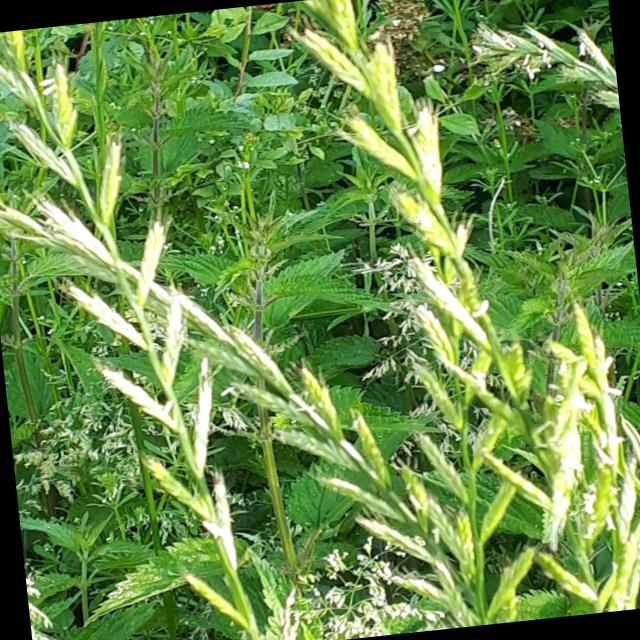Lolium: (0, 154, 472, 640), (287, 0, 640, 637), (0, 13, 270, 640), (386, 218, 544, 630)
